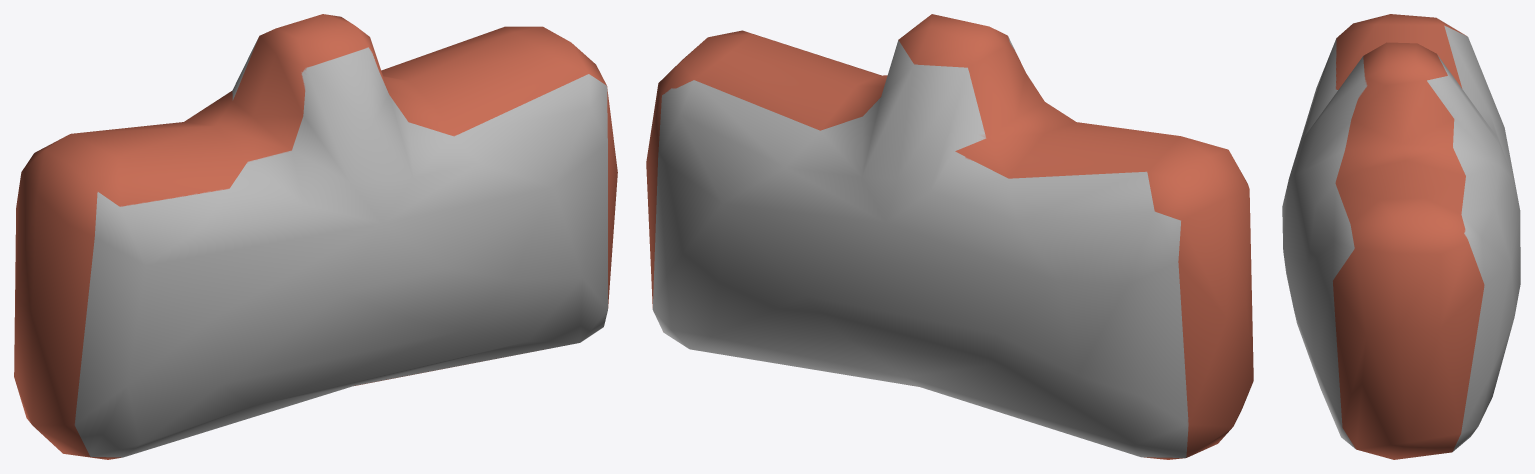
File: col.fbx
3 renders of one model, left to right at view 1: azimuth 30°, elevation 25°; view 2: azimuth 150°, elevation 25°; view 3: azimuth 270°, elevation 25°, orthographic. The views are drawn at different scales.
Parts seen in each view (by area): view 1: Tetris_M.001; view 2: Tetris_M.001; view 3: Tetris_M.001.
Boxes of the visible parts, <box> form: Tetris_M.001: <box>14,14,617,459</box>; Tetris_M.001: <box>646,14,1253,459</box>; Tetris_M.001: <box>1282,14,1520,459</box>.
Bounding box in the file's own units: 250 × 150 × 107.
